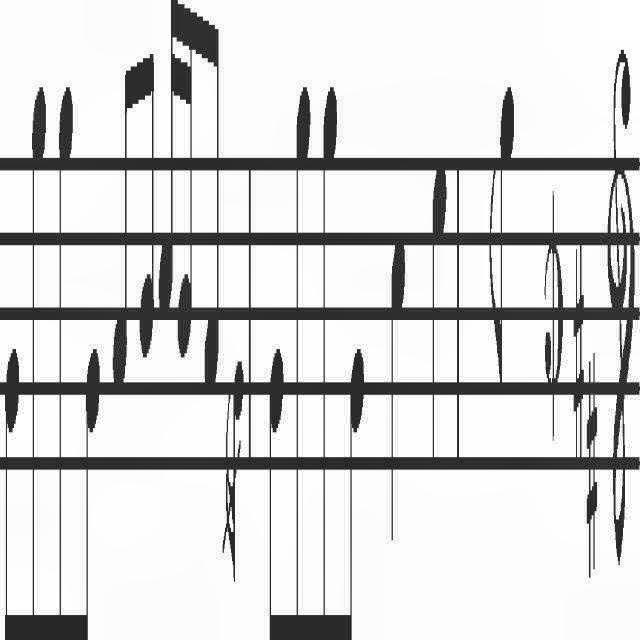Bass-clef: (606, 42, 636, 570)
Diez: (586, 352, 598, 576), (572, 243, 584, 464)
Eighth-note: (291, 75, 313, 640), (55, 75, 75, 640), (28, 75, 47, 640), (321, 75, 339, 640), (488, 75, 516, 389), (112, 51, 136, 398), (203, 12, 221, 396), (81, 328, 102, 640), (346, 336, 366, 640), (138, 45, 156, 359), (267, 332, 285, 640), (4, 336, 22, 640)
Quarter-note: (428, 144, 448, 480), (389, 225, 406, 551)
Sixteenth-note: (178, 0, 194, 374), (158, 0, 176, 320)
